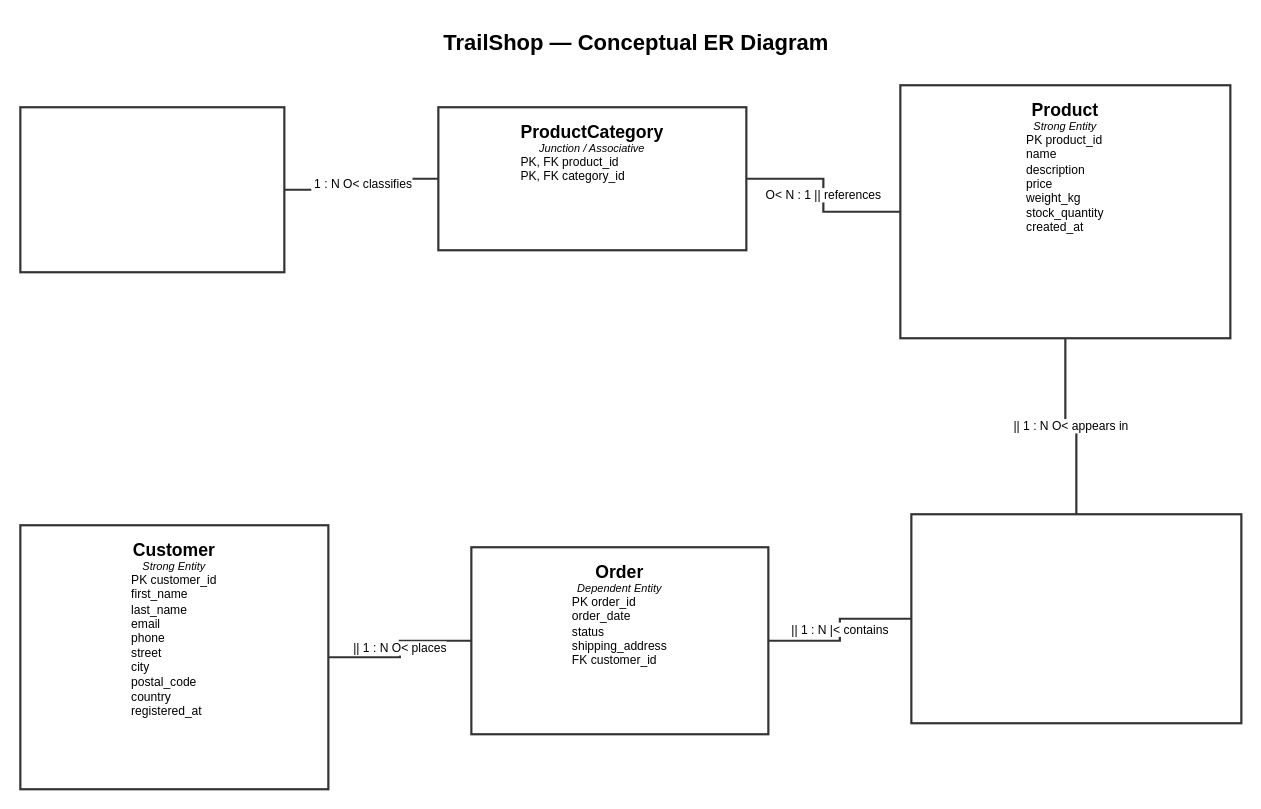
Some shapes in this 1261 by 809 pixel diagram are drawn without their labels. The shapes that lost their labels are listed below. From the top down, each one's centre as x and y in pixels, then its label:
At (152,189): "Category Strong Entity PK category_id category_name description".
At (1076,618): "OrderItem WEAK Entity PK, FK order_id PK, FK product_id quantity unit_price".
